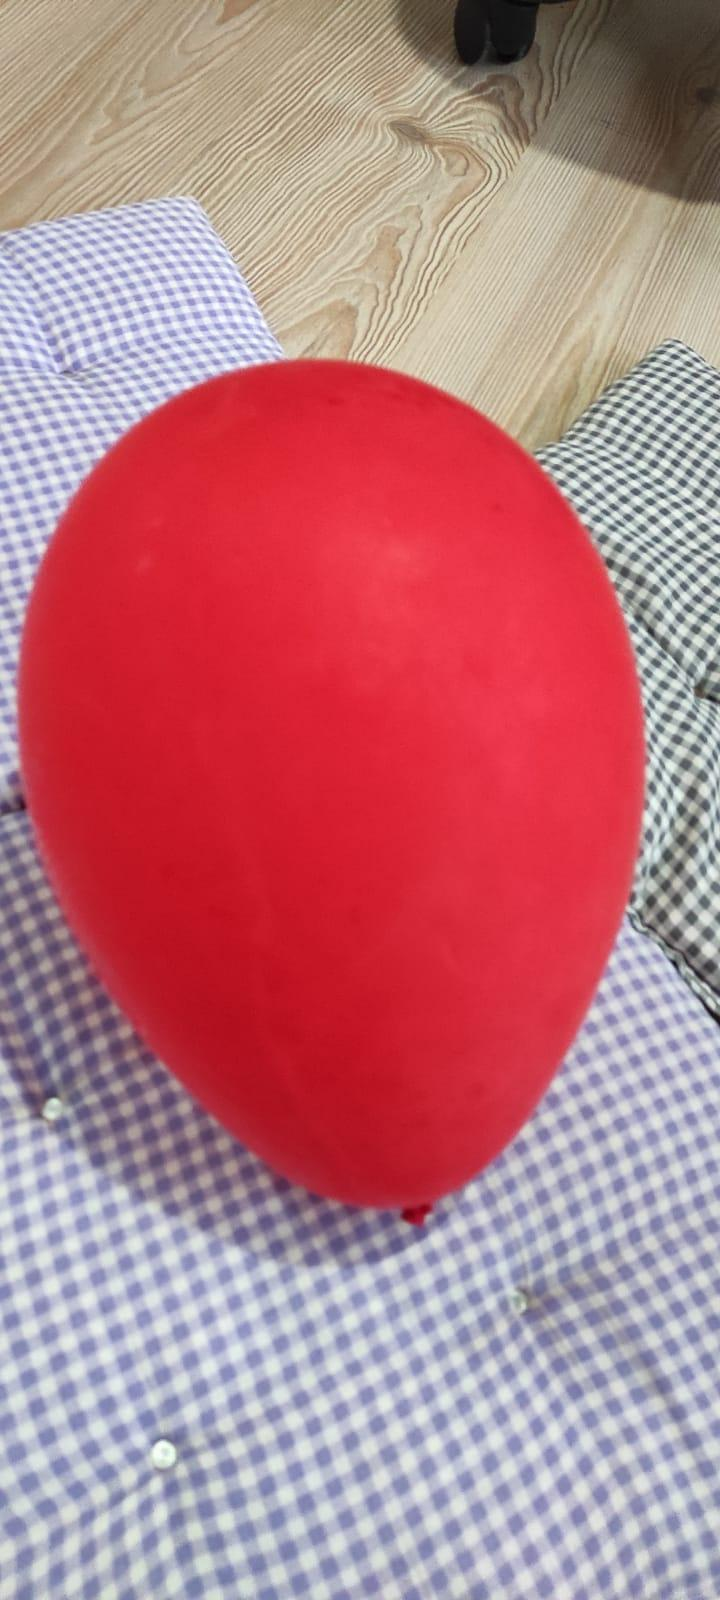red: (14, 354, 650, 1237)
